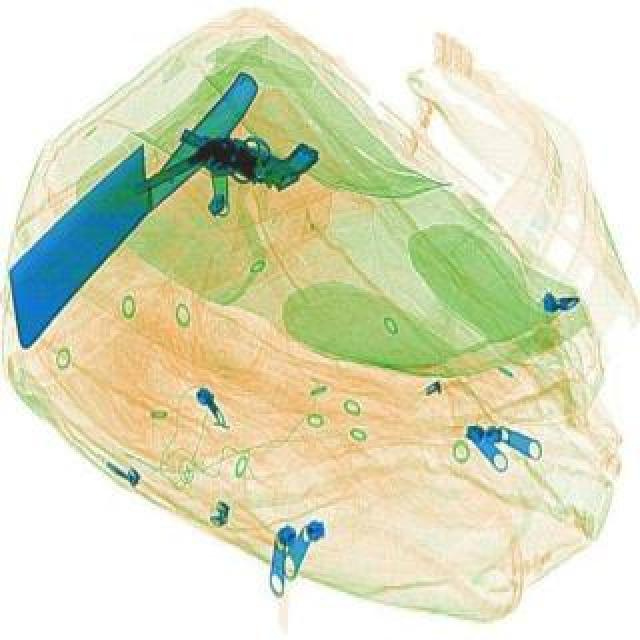gun: (170, 100, 326, 210), (126, 132, 266, 238)
knife: (0, 54, 268, 330)
